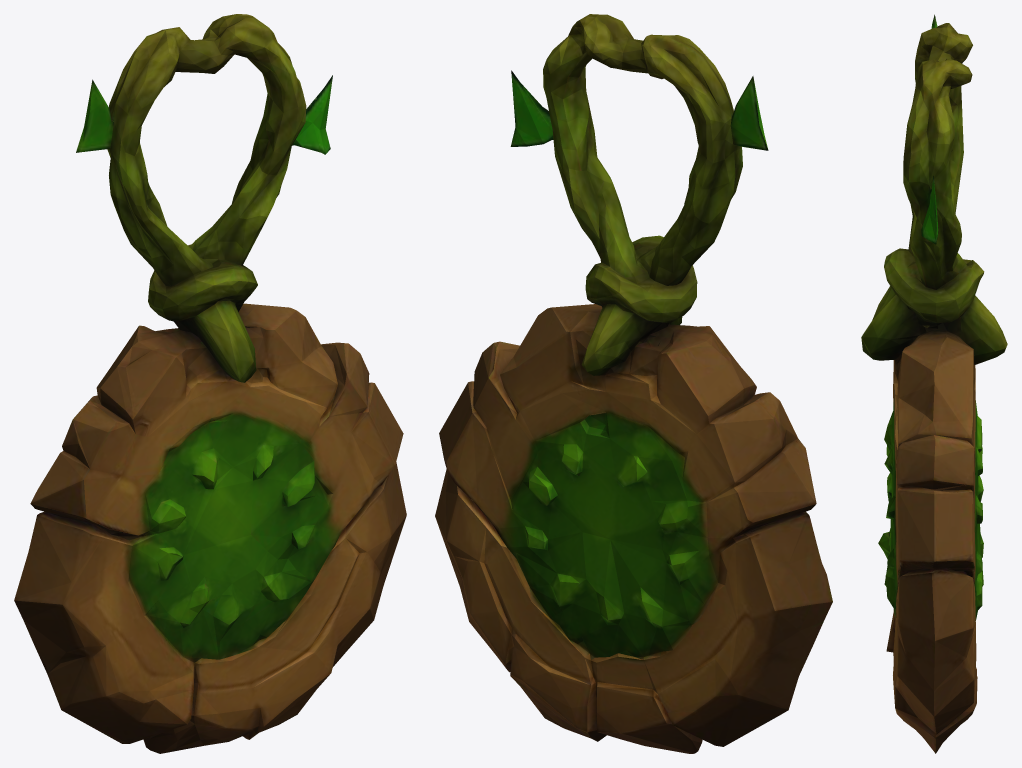
File: ecorce_talisman.glb
3 views of the same model, side by side, from view 1: azimuth 30°, elevation 25°; view 2: azimuth 150°, elevation 25°; view 3: azimuth 270°, elevation 25° (orthographic). The views are drawn at different scales.
Visible parts, largest first — view 1: geometry_0; view 2: geometry_0; view 3: geometry_0.
Part boxes in pixels (x1,y1,x2,y2): geometry_0: (14, 14, 406, 753); geometry_0: (435, 14, 832, 753); geometry_0: (861, 14, 1007, 753).
Size of the model in its own units: 0.5729 by 1 by 0.1962.
1 material, 1 textured.
